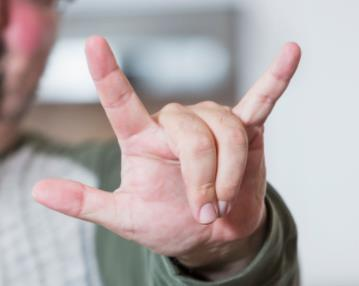back: (26, 34, 307, 262)
